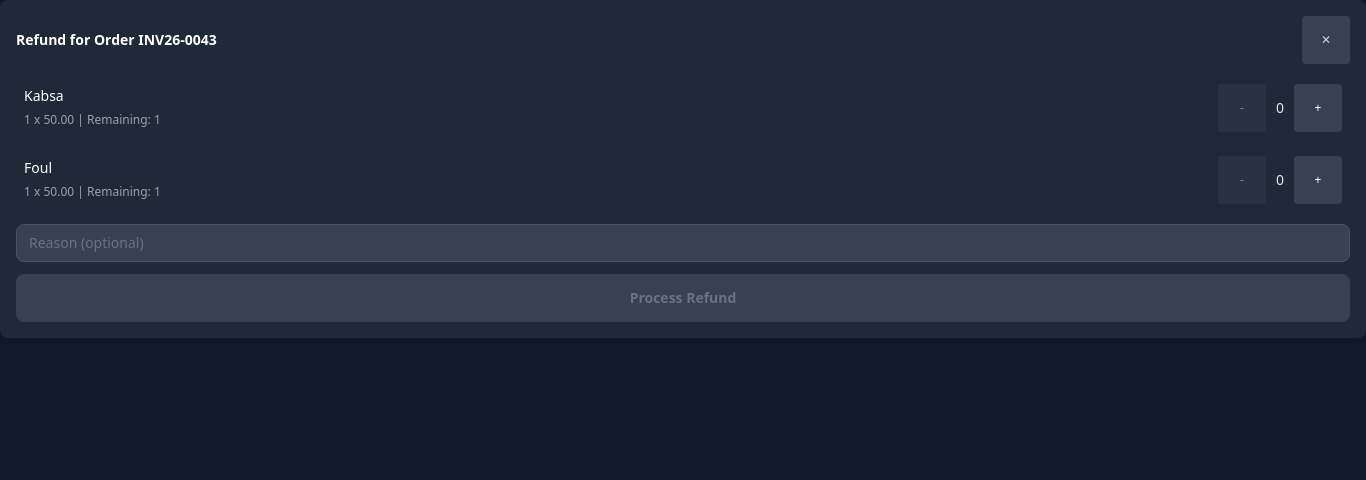
Test: RefundPanel — stamped Discount preview (slice 9) › selecting every line previews the exact payable
This screenshot has width=1366, height=480.
Expected: the heading "Refund for Order INV26-0043" is shown, [16,30,217,50]
Click the button "+" in the row of "Kabsa" at (1318, 108), box [1294,84,1342,132]
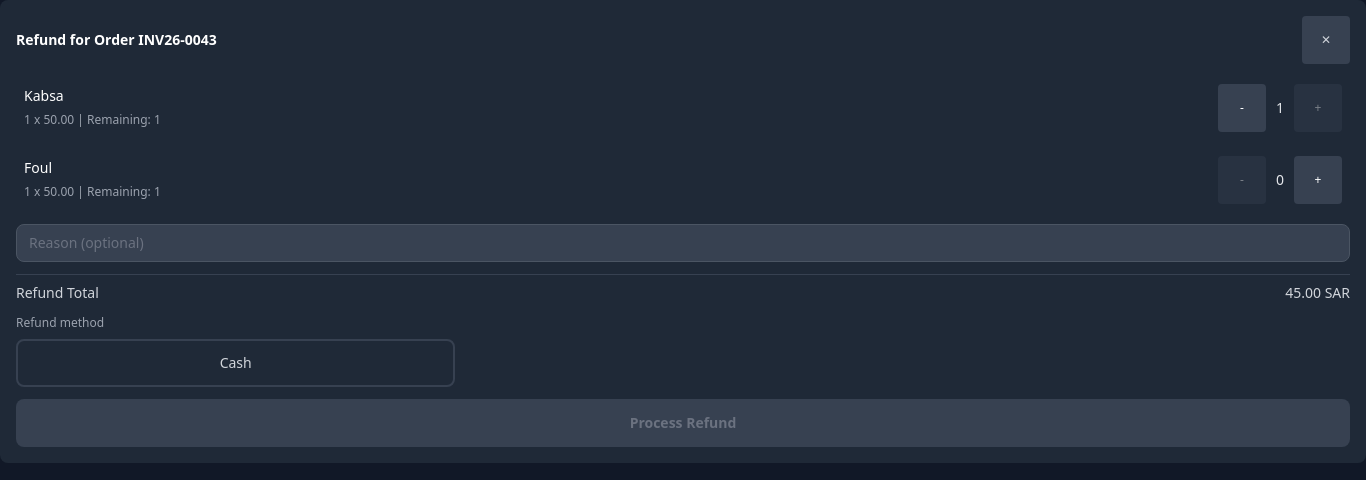
Click the button "+" in the row of "Foul" at (1318, 180), box [1294,156,1342,204]
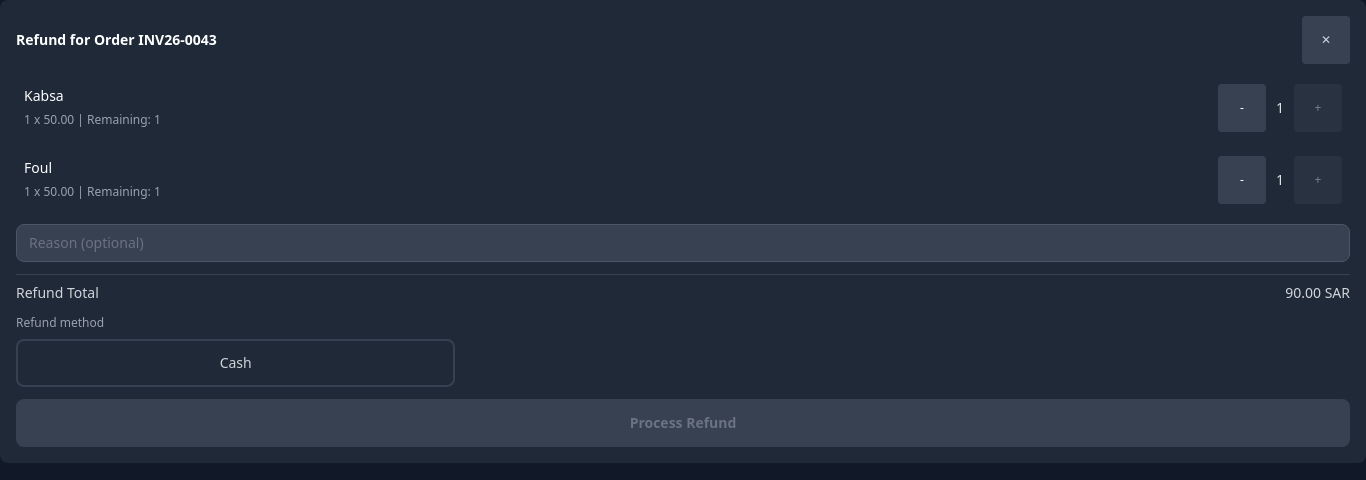
Expected: the text "Refund Total" is shown, [16,283,99,303]
Expected: the text "90.00 SAR" is shown, [1285,283,1350,303]
